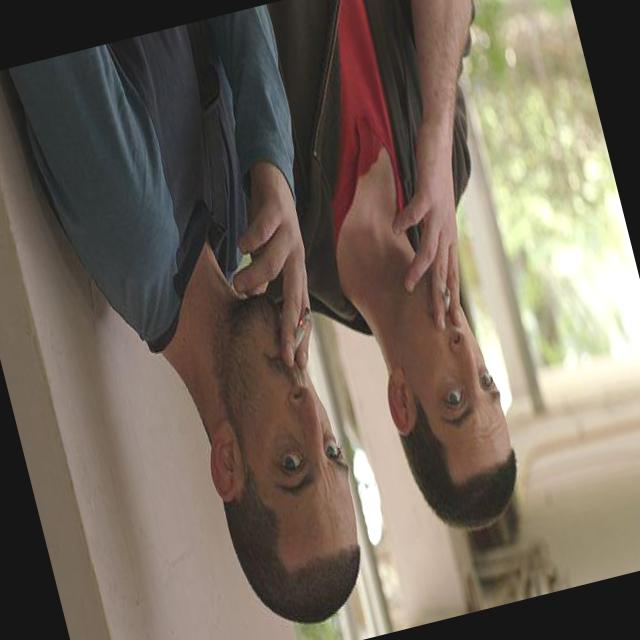smoke: (254, 296, 326, 372), (416, 264, 472, 334)
